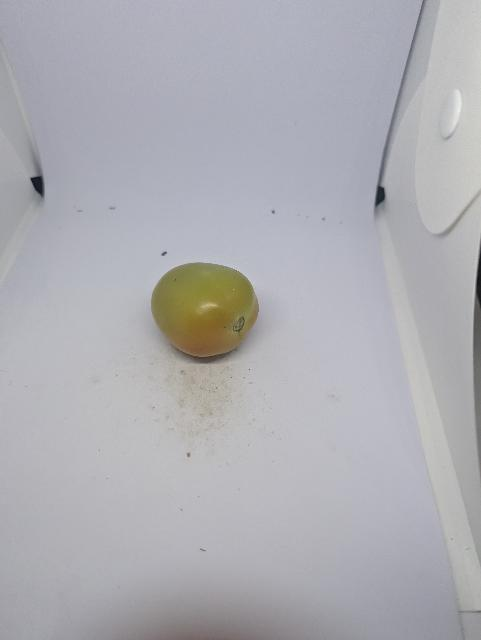breaker: (152, 263, 259, 357)
